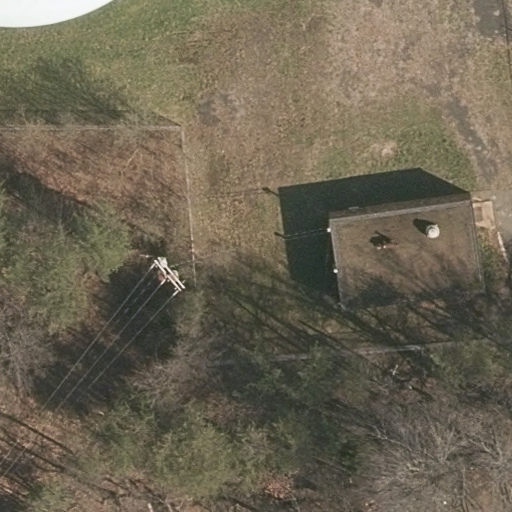DT: (140, 248, 191, 298)
